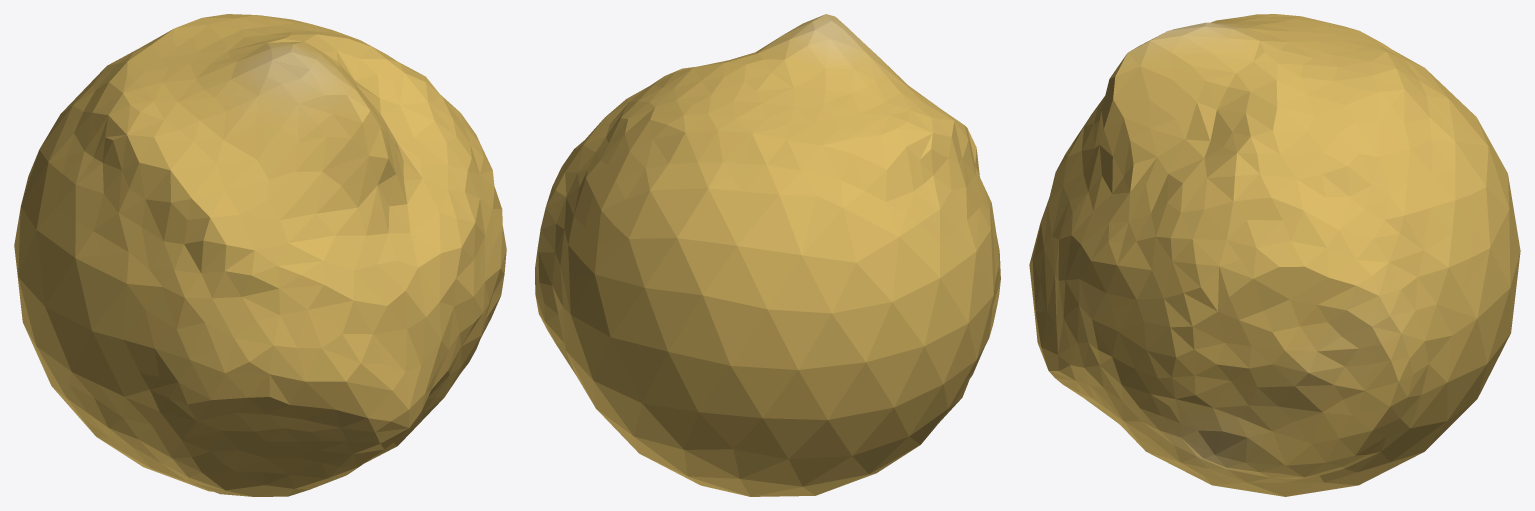
3 views of the same model, side by side, from view 1: azimuth 30°, elevation 25°; view 2: azimuth 150°, elevation 25°; view 3: azimuth 270°, elevation 25° (orthographic). The views are drawn at different scales.
Parts seen in each view (by area): view 1: Icosphere; view 2: Icosphere; view 3: Icosphere.
Part boxes in pixels (<box>): Icosphere: <box>14,14,506,496</box>; Icosphere: <box>535,14,1000,496</box>; Icosphere: <box>1029,14,1520,496</box>.
Bounding box in the file's own units: 2059 × 2079 × 2070.
